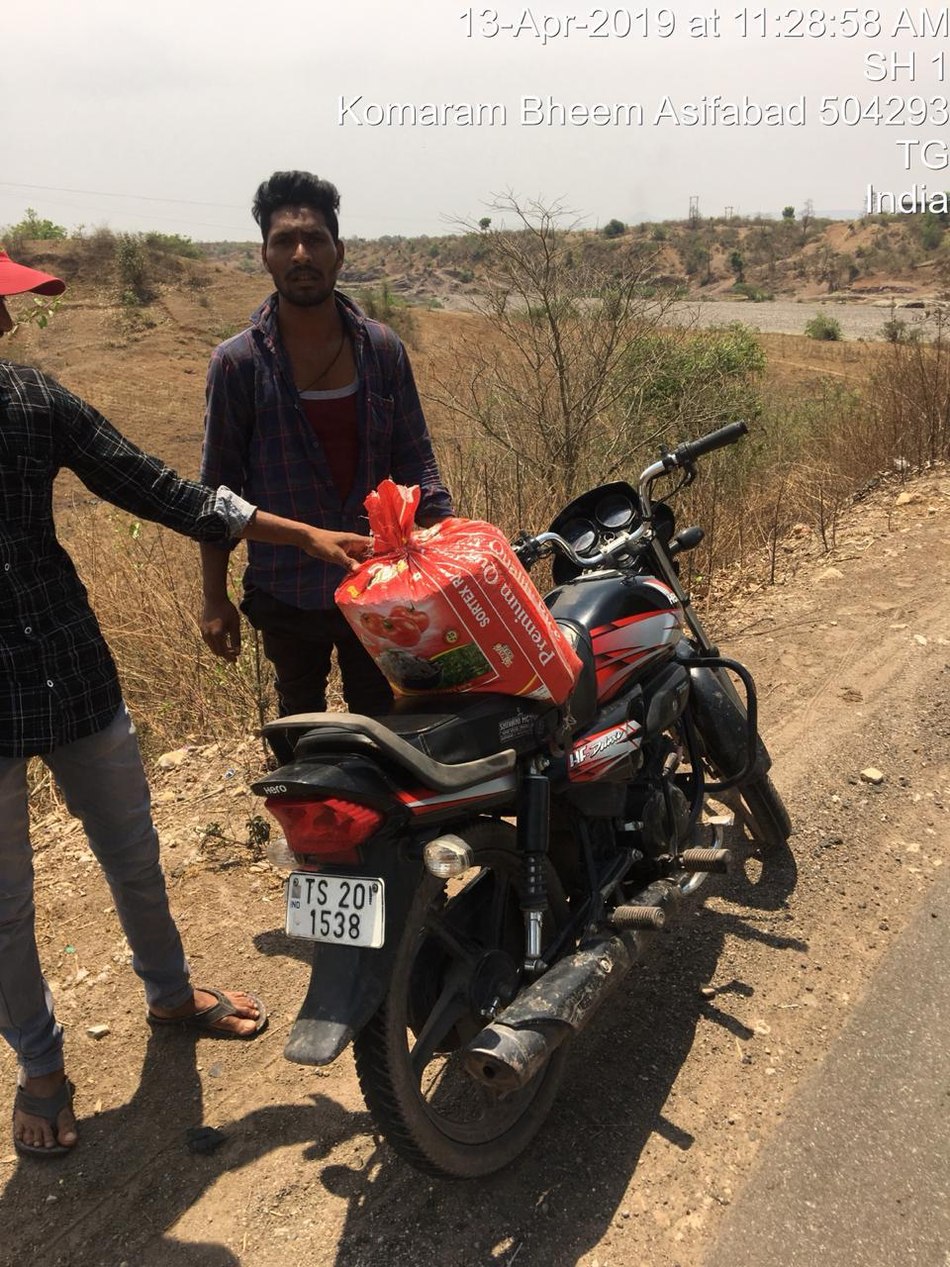plate: (267, 864, 406, 957)
